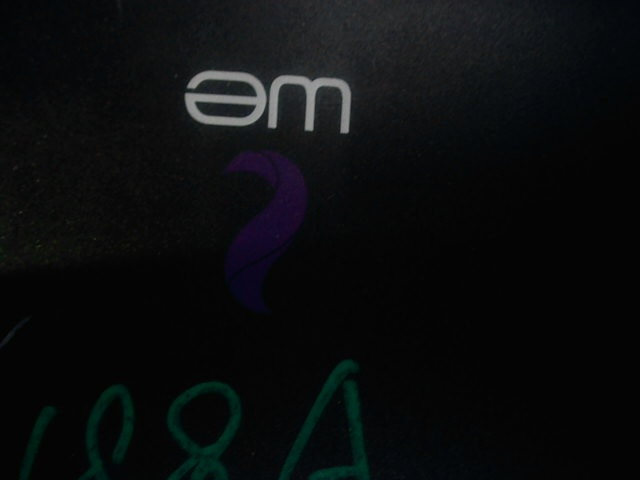AT_We: (173, 68, 374, 316)
